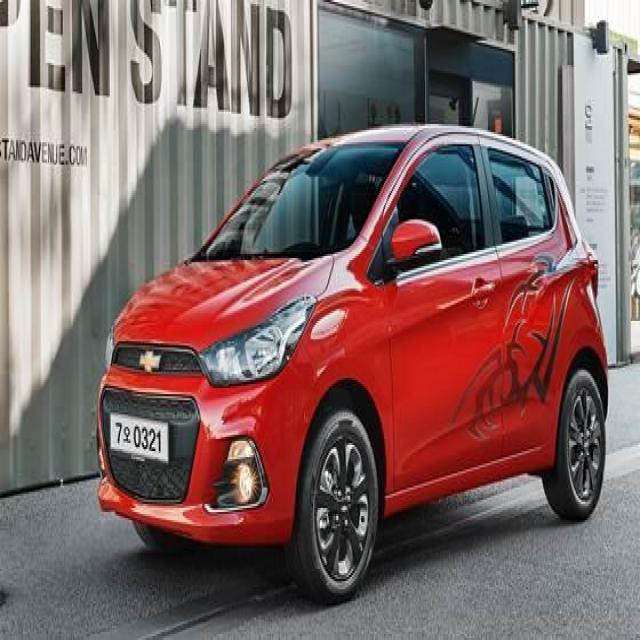car: (90, 110, 616, 604)
illegal_plate: (107, 414, 171, 467)
